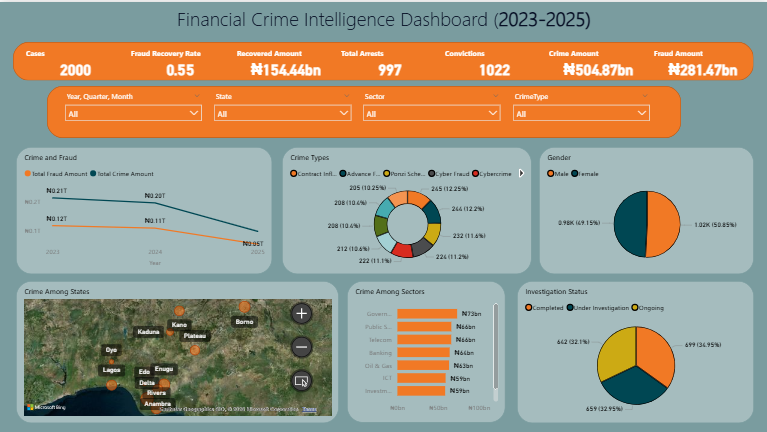

What the dashboard file says about the page in this screenshot:
{"tool":"powerbi","page":{"name":"Executive Overview","canvas":[1280,720],"ordinal":0},"visuals":[{"type":"shape","box":[26.4,66.7,1229.2,65.3],"z":0},{"type":"shape","box":[26.4,140.3,1229.2,86.1],"z":1000},{"type":"textbox","box":[0,0,1280,55],"z":2000},{"type":"card","title":"Cases","fields":{"Values":["CountNonNull(Crime Dataset.CaseID)"]},"box":[37.5,76.5,175,53.9],"z":2000,"group":"g1"},{"type":"slicer","fields":{"Values":["EFCC_Data.CrimeType"]},"box":[945,143.1,298.1,80.6],"z":2000,"group":"g2"},{"type":"slicer","fields":{"Values":["EFCC_Data.ReportDate.Variation.Date Hierarchy.Year","EFCC_Data.ReportDate.Variation.Date Hierarchy.Quarter","EFCC_Data.ReportDate.Variation.Date Hierarchy.Month"]},"box":[47.2,143.1,298.1,80.6],"z":3000,"group":"g2"},{"type":"lineChart","title":"Crime and Fraud","fields":{"Category":["EFCC_Data.ReportDate.Variation.Date Hierarchy.Year"],"Y":["_Measures.Total Fraud Amount","_Measures.Total Crime Amount"]},"box":[26.9,241.8,426.9,211.9],"z":3000},{"type":"card","title":"Fraud Recovery Rate","fields":{"Values":["_Measures.Fraud Recovery Rate"]},"box":[212.7,76.2,174.6,54.1],"z":4000,"group":"g1"},{"type":"donutChart","title":"Crime Types","fields":{"Category":["EFCC_Data.CrimeType"],"Y":["_Measures.Total Cases"]},"box":[470.1,241.8,416.4,211.9],"z":4000},{"type":"slicer","fields":{"Values":["EFCC_Data.Sector"]},"box":[645.1,143.1,299.9,80.6],"z":5000,"group":"g2"},{"type":"map","title":"Crime Among States","fields":{"Category":["EFCC_Data.State"],"Size":["_Measures.Total Fraud Amount"]},"box":[26.7,465.5,537.9,237.1],"z":5000},{"type":"slicer","fields":{"Values":["EFCC_Data.State"]},"box":[345.3,143.1,299.9,80.6],"z":6000,"group":"g2"},{"type":"barChart","title":"Crime Among Sectors","fields":{"Category":["EFCC_Data.Sector"],"Y":["_Measures.Total Crime Amount"]},"box":[577.6,465.7,264.2,235.8],"z":6000},{"type":"pieChart","title":"Gender","fields":{"Category":["EFCC_Data.SuspectGender"],"Y":["CountNonNull(EFCC_Data.CaseID)"]},"box":[898.5,241.8,358.2,211.9],"z":7000},{"type":"card","title":"Recovered Amount","fields":{"Values":["_Measures.Total Amount Recovered"]},"box":[388.9,76.2,173.1,55.4],"z":8000,"group":"g1"},{"type":"pieChart","title":"Investigation Status","fields":{"Category":["EFCC_Data.InvestigationStatus"],"Y":["CountNonNull(EFCC_Data.CaseID)"]},"box":[861.7,465,395,236.7],"z":8000},{"type":"group","id":"g1","title":"Group 1","box":[37.5,76.2,1220,55],"z":9000},{"type":"card","title":"Total Arrests","fields":{"Values":["_Measures.Total Arrests"]},"box":[562,76.2,173.1,54.1],"z":10000,"group":"g1"},{"type":"group","id":"g2","title":"Group 2","box":[47.2,143.1,1195.8,80.6],"z":10000},{"type":"card","title":"Convictions","fields":{"Values":["_Measures.Total Convictions"]},"box":[735.1,76.2,174.6,54.1],"z":12000,"group":"g1"},{"type":"card","title":"Crime Amount","fields":{"Values":["_Measures.Total Crime Amount"]},"box":[909.8,76.2,174.6,54.1],"z":14000,"group":"g1"},{"type":"card","title":"Fraud Amount","fields":{"Values":["_Measures.Total Fraud Amount"]},"box":[1084.4,76.2,173.1,54.1],"z":16000,"group":"g1"}]}

Visuals, with their boxes in screenshot pixels (x1, y1, x2, y2), scaled from the page's 1280x720 canvas onto the 767x432 screenshot:
shape: box=[16, 40, 752, 79]
shape: box=[16, 84, 752, 136]
textbox: box=[0, 0, 766, 33]
"Cases" card: box=[22, 46, 127, 78]
slicer - EFCC_Data.CrimeType: box=[566, 86, 745, 134]
slicer - EFCC_Data.ReportDate.Variation.Date Hierarchy.Year x EFCC_Data.ReportDate.Variation.Date Hierarchy.Quarter: box=[28, 86, 207, 134]
"Crime and Fraud" lineChart: box=[16, 145, 272, 272]
"Fraud Recovery Rate" card: box=[127, 46, 232, 78]
"Crime Types" donutChart: box=[282, 145, 531, 272]
slicer - EFCC_Data.Sector: box=[387, 86, 566, 134]
"Crime Among States" map: box=[16, 279, 338, 422]
slicer - EFCC_Data.State: box=[207, 86, 387, 134]
"Crime Among Sectors" barChart: box=[346, 279, 504, 421]
"Gender" pieChart: box=[538, 145, 753, 272]
"Recovered Amount" card: box=[233, 46, 337, 79]
"Investigation Status" pieChart: box=[516, 279, 753, 421]
"Group 1" group: box=[22, 46, 754, 79]
"Total Arrests" card: box=[337, 46, 440, 78]
"Group 2" group: box=[28, 86, 745, 134]
"Convictions" card: box=[440, 46, 545, 78]
"Crime Amount" card: box=[545, 46, 650, 78]
"Fraud Amount" card: box=[650, 46, 754, 78]
